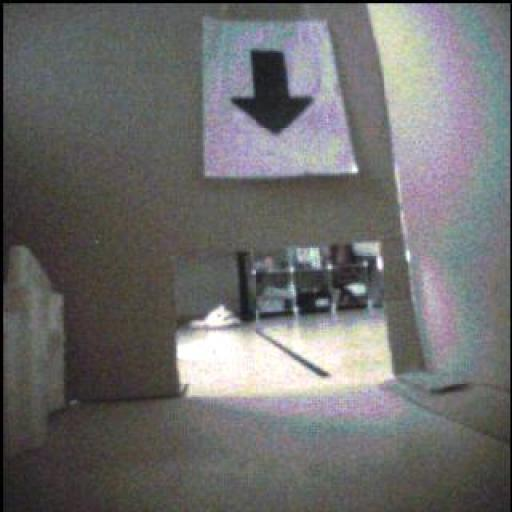arrow: (233, 51, 313, 136)
